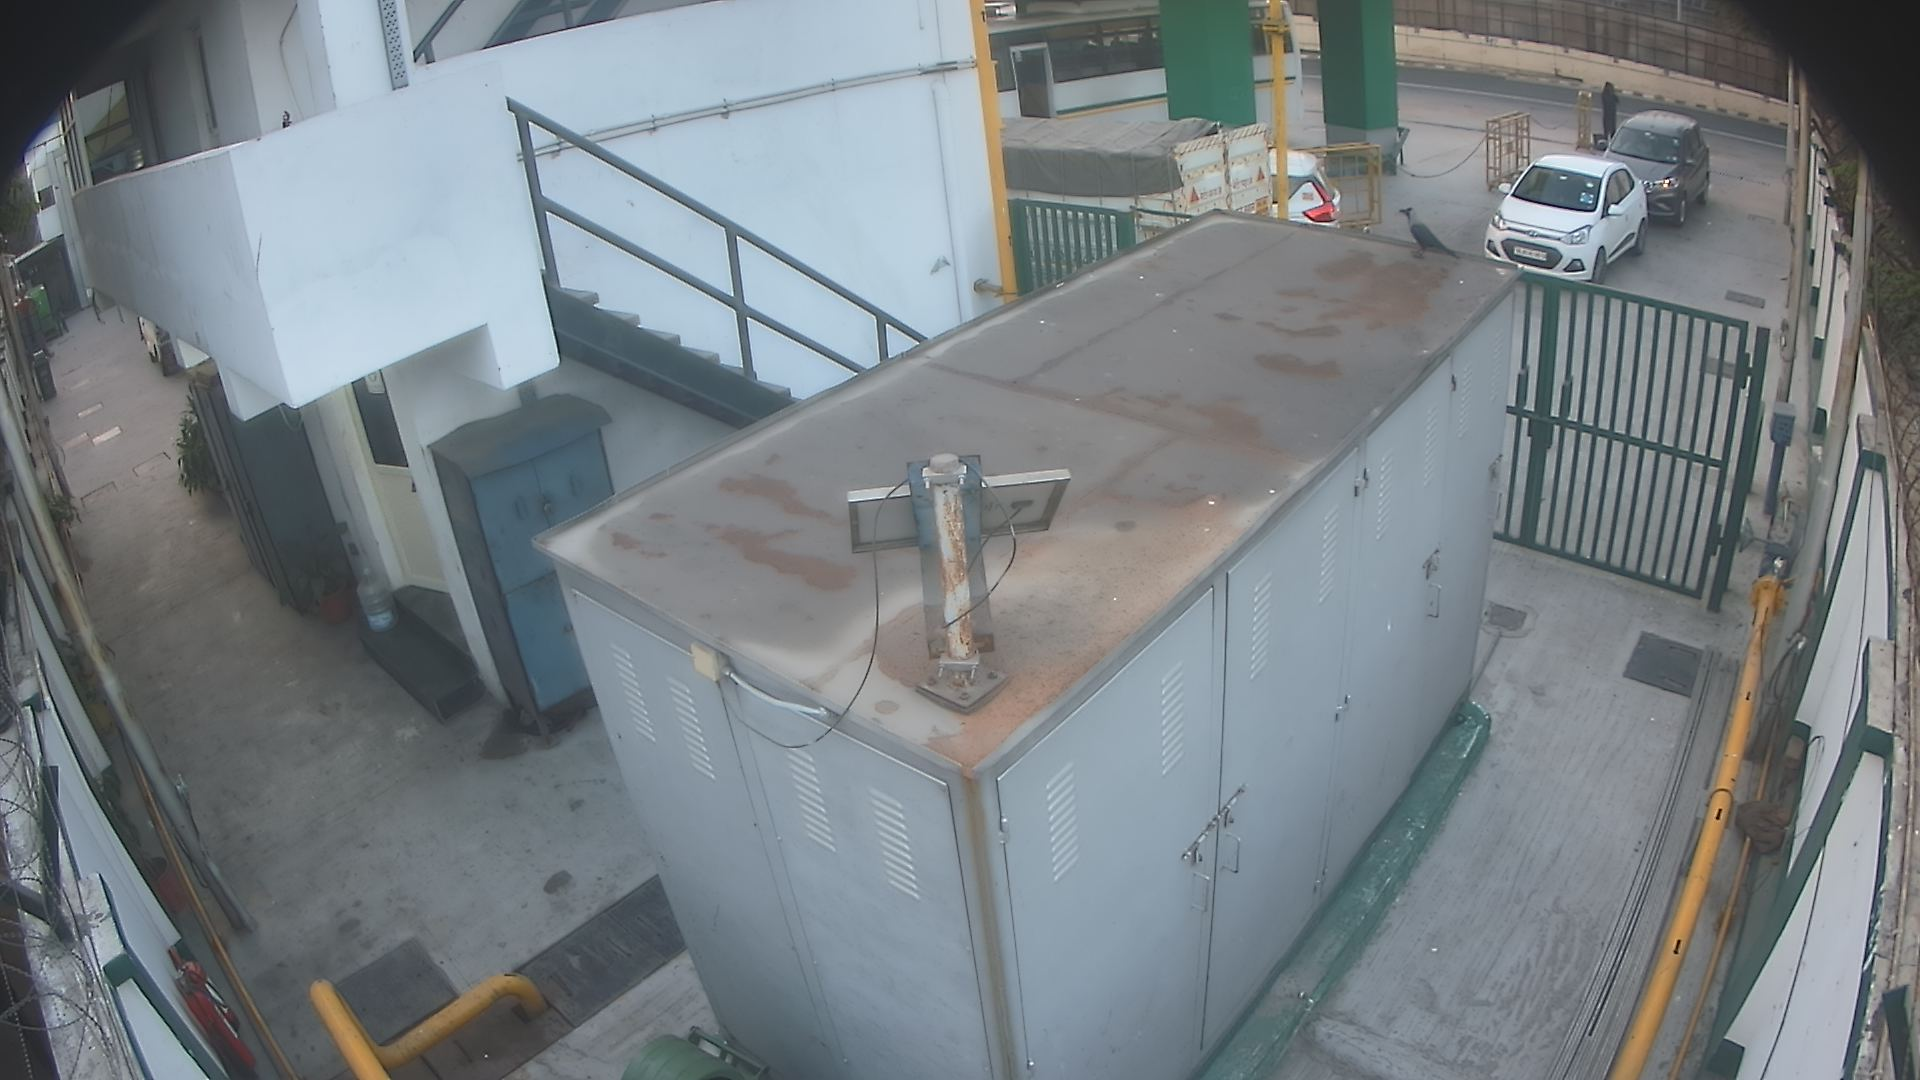Car: (1477, 144, 1656, 290), (1589, 107, 1716, 229), (1247, 128, 1356, 257), (129, 297, 190, 394)
HMV: (975, 100, 1294, 323), (957, 0, 1313, 161)
